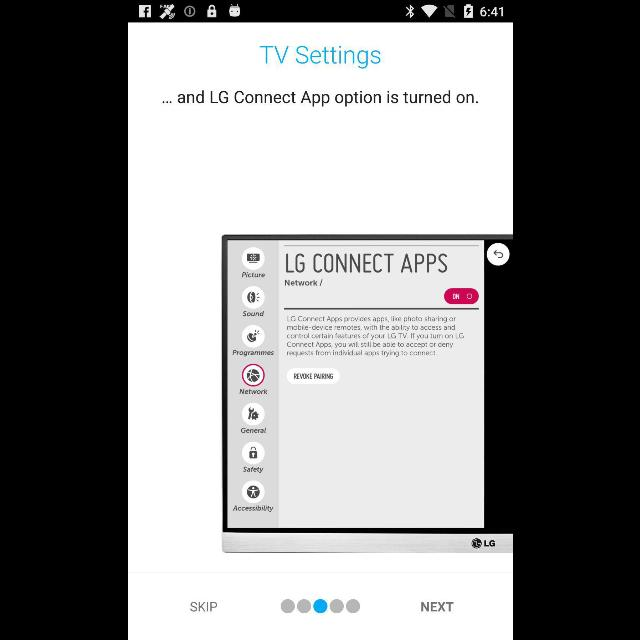image: (220, 234, 512, 552)
pageindicator: (280, 598, 360, 614)
text: (162, 90, 478, 108), (258, 46, 379, 70), (421, 602, 454, 612), (190, 602, 217, 612)
uppertaskbar: (128, 1, 512, 23)
